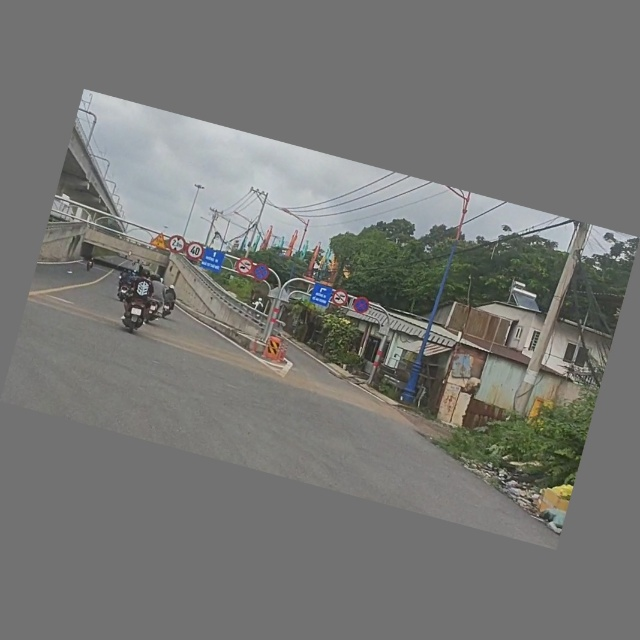P.107: (234, 256, 256, 278), (330, 288, 350, 309)
P.117*: (166, 234, 188, 256)
P.127*40: (185, 241, 205, 262)
P.130: (251, 263, 271, 284), (351, 296, 372, 316)
W.239b*: (149, 230, 170, 251)
